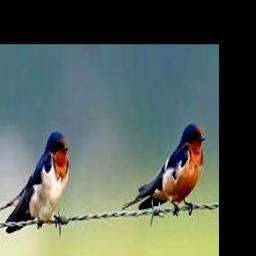Swallow: (122, 122, 208, 214), (0, 132, 70, 233)
